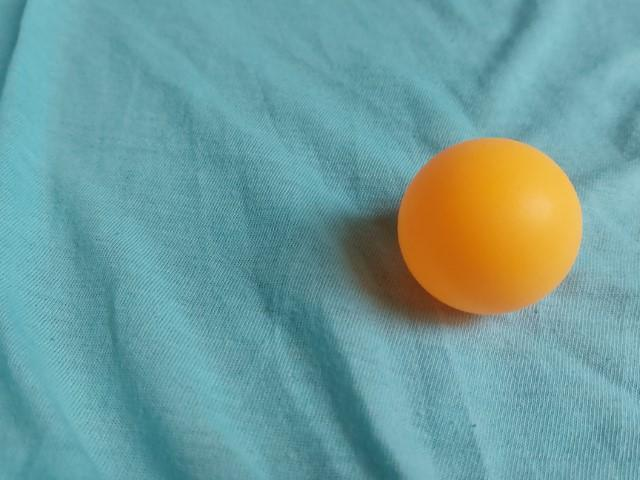oball: (391, 131, 589, 321)
